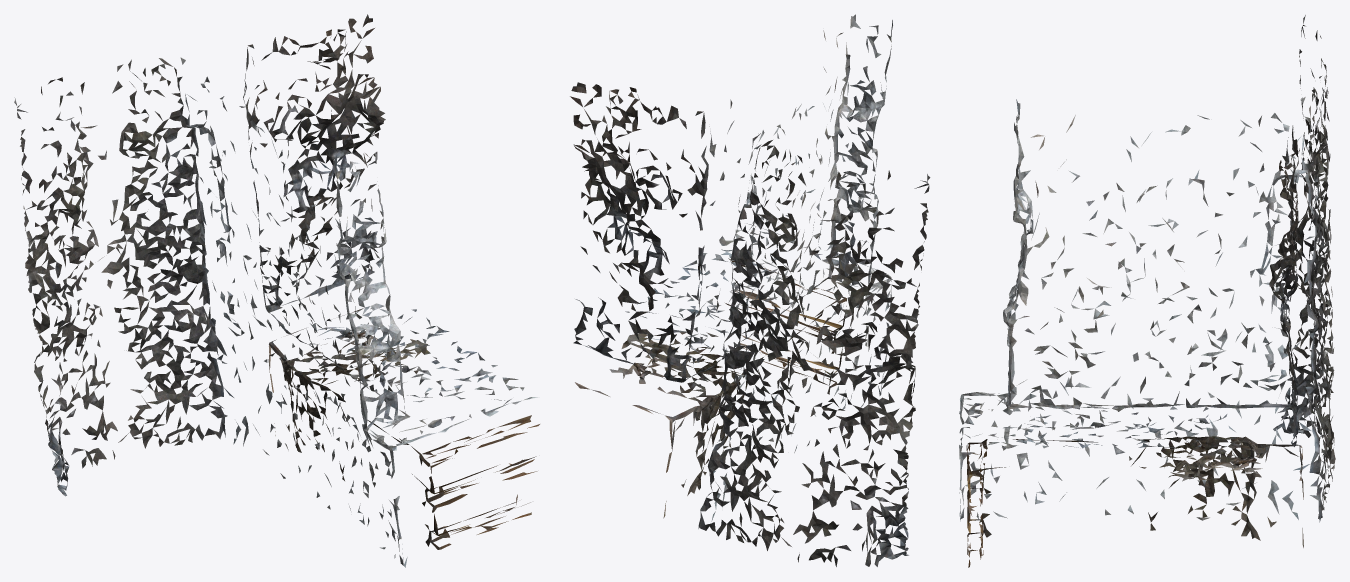
3 renders of one model, left to right at view 1: azimuth 30°, elevation 25°; view 2: azimuth 150°, elevation 25°; view 3: azimuth 270°, elevation 25°, orthographic.
Bounding box in the file's own units: 6.58 × 7.13 × 5.9.
Materials: 1 (1 with a texture image).
